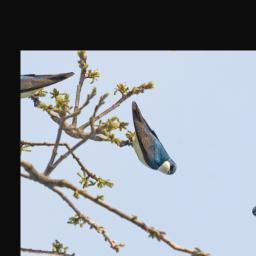Swallow: (100, 98, 206, 183)
